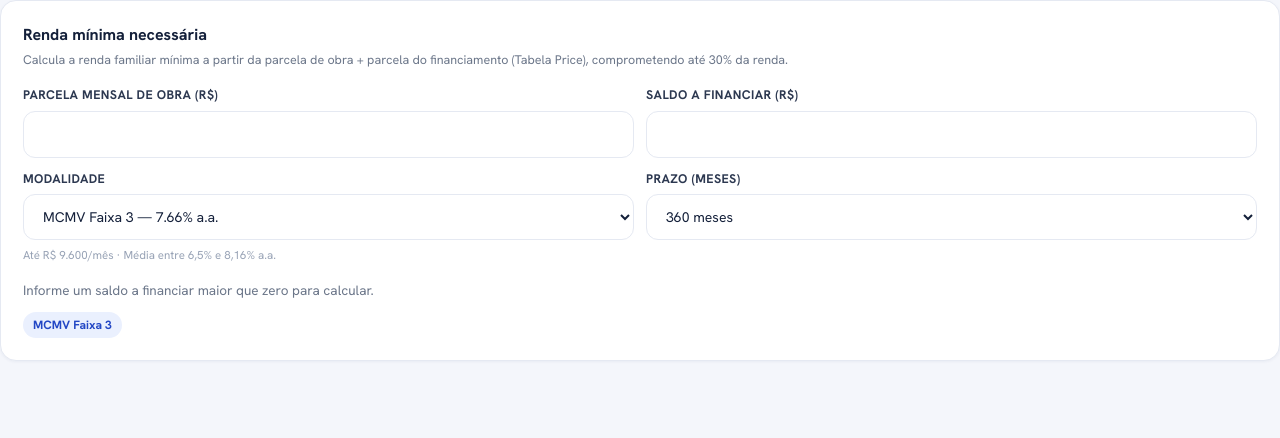
Test: CalculoRendaFinanciamento › revela campo de taxa custom quando modalidade=personalizada
The width and height of the screenshot is (1280, 438).
Expected: the text "Taxa personalizada" is not shown
Select "Personalizada" in the dropdown labelled "Modalidade Até R$ 9.600/mês · Média entre 6,5% e 8,16% a.a.". click: {"x": 328, "y": 217}
box: [23,194,634,240]
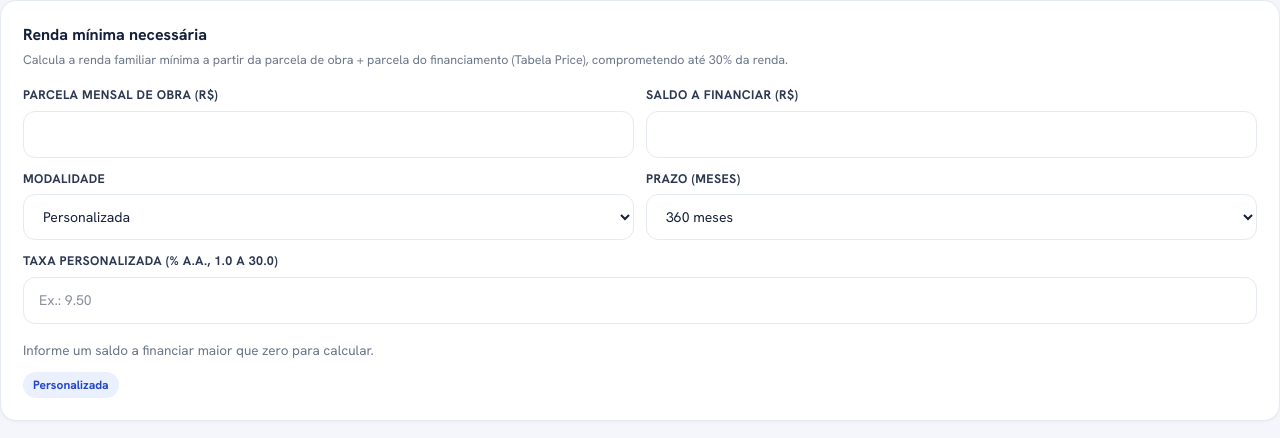
Result: the text "Taxa personalizada (% a.a., 1.0 a 30.0)" is shown at [23,252,278,269]
